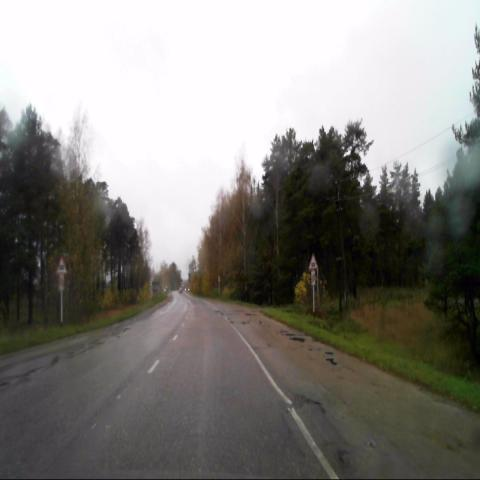1_1: (55, 256, 68, 275)
